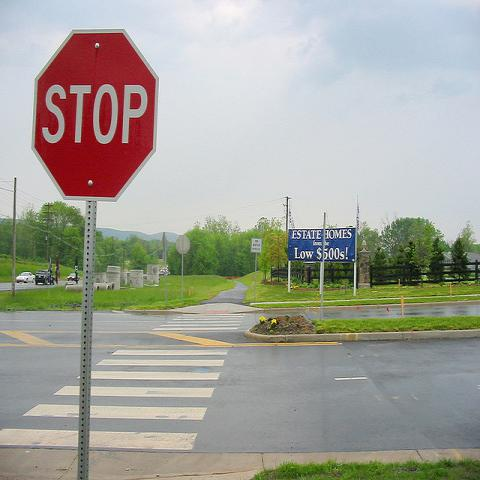car: (36, 268, 54, 286), (16, 271, 34, 283), (67, 273, 76, 281), (144, 272, 147, 279), (164, 266, 166, 270)
